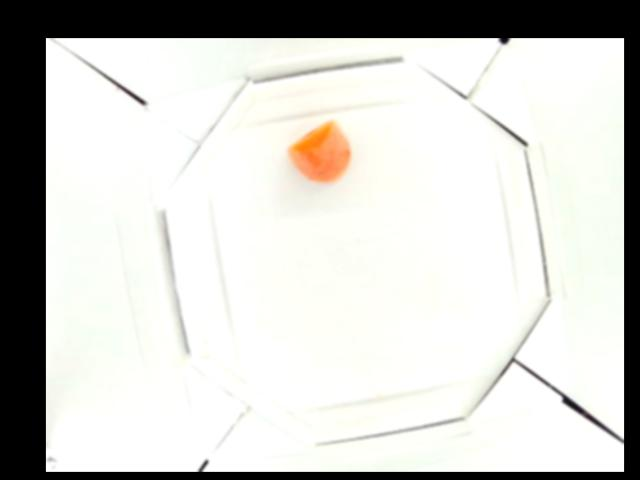Carrot: (290, 119, 352, 180)
